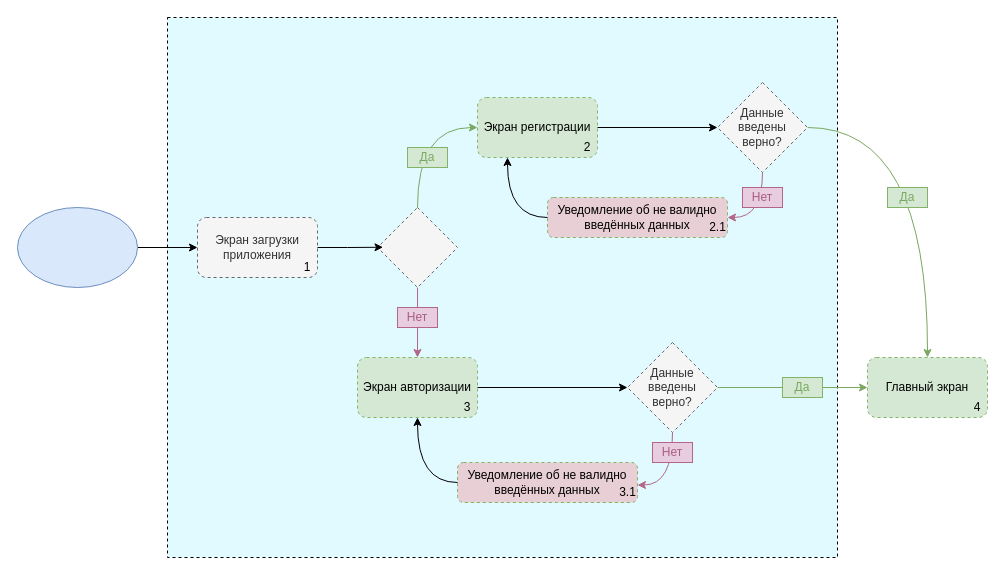
Some shapes in this 1005 by 575 pixel diagram are drawn without their labels. Here are the shapes that lost their labels. From the top down, the centre of each, then its label:
At pixel 77 247: "Зайти на сайт".
At pixel 417 247: "Зашел впервые?".
